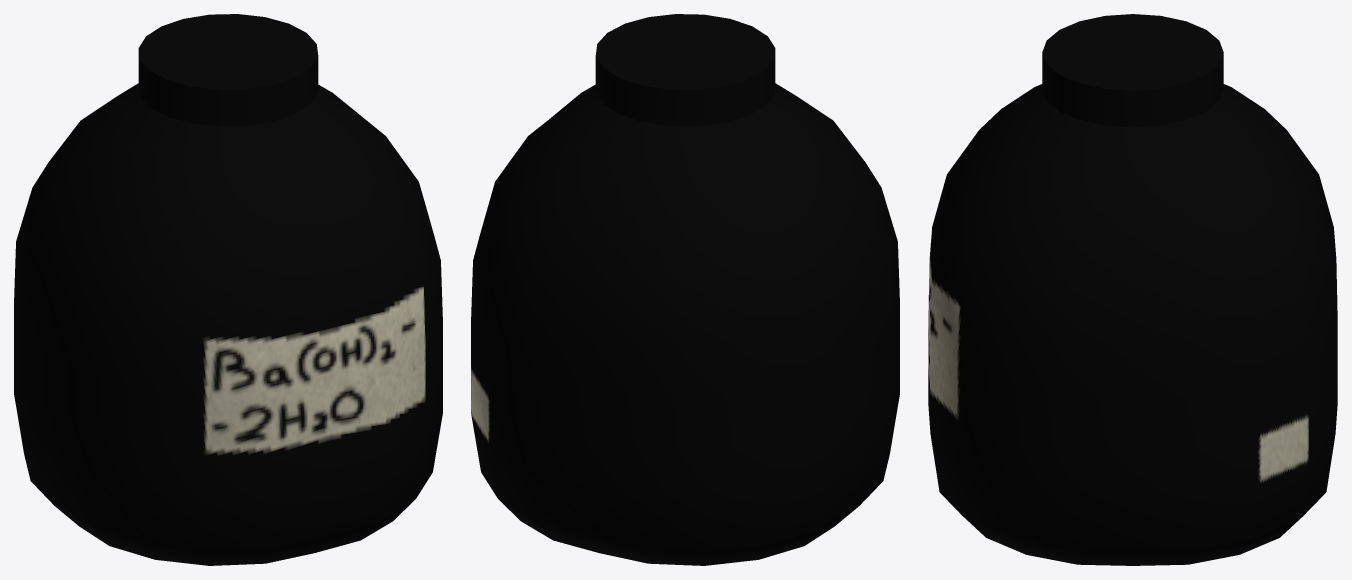
Rendered from Barium Hydroxide Octahydrate Crystals (bottled).fbx.
3 renders of one model, left to right at view 1: azimuth 30°, elevation 25°; view 2: azimuth 150°, elevation 25°; view 3: azimuth 270°, elevation 25°, orthographic.
Visible parts, largest first — view 1: Barium_Hydroxide_Octahydrate1; view 2: Barium_Hydroxide_Octahydrate1; view 3: Barium_Hydroxide_Octahydrate1.
Boxes of the visible parts, bbox=[...] form: Barium_Hydroxide_Octahydrate1: bbox=[14, 14, 442, 565]; Barium_Hydroxide_Octahydrate1: bbox=[471, 14, 899, 565]; Barium_Hydroxide_Octahydrate1: bbox=[928, 14, 1337, 565].
Bounding box in the file's own units: 1.23 × 1.46 × 1.23.
1 material, 1 textured.
